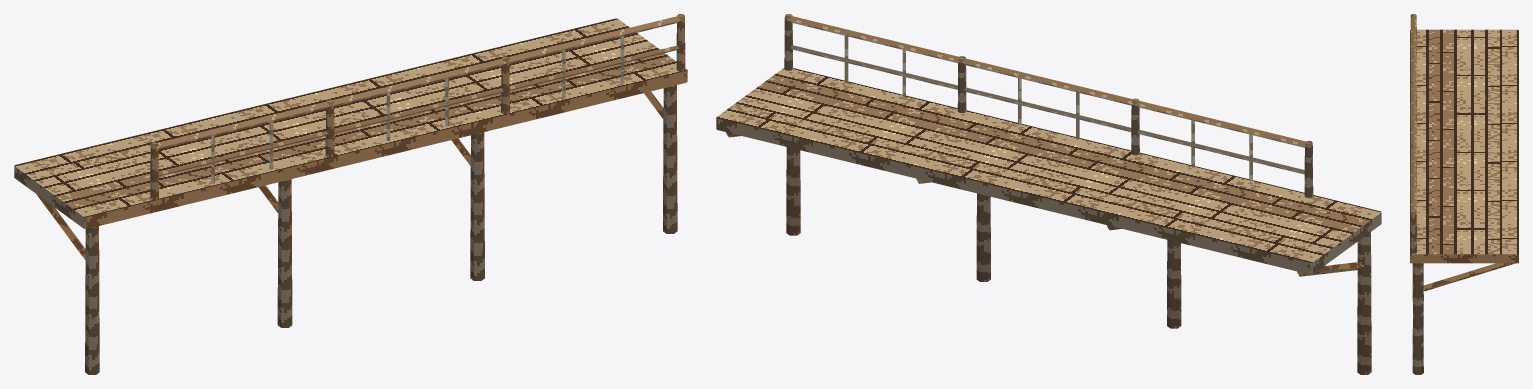
File: wtown.gallery__west_stair.glb
3 renders of one model, left to right at view 1: azimuth 30°, elevation 25°; view 2: azimuth 150°, elevation 25°; view 3: azimuth 270°, elevation 25°, orthographic. The views are drawn at different scales.
Parts seen in each view (by area): view 1: kit_deck, kit_railing, kit_posts, kit_braces; view 2: kit_deck, kit_railing, kit_posts, kit_braces; view 3: kit_deck, kit_railing, kit_posts, kit_braces.
Boxes of the visible parts, x1,y1,x2,y2 form: kit_deck: (14, 18, 687, 228); kit_railing: (150, 14, 685, 199); kit_posts: (85, 85, 677, 374); kit_braces: (36, 91, 663, 259); kit_deck: (716, 68, 1381, 274); kit_railing: (784, 14, 1313, 197); kit_posts: (786, 147, 1371, 374); kit_braces: (726, 132, 1364, 276); kit_deck: (1410, 29, 1518, 263); kit_railing: (1410, 14, 1416, 253); kit_posts: (1412, 263, 1423, 374); kit_braces: (1423, 263, 1514, 291).
Bounding box in the file's own units: 11.72 × 4.01 × 2.4.
4 materials, 4 textured.
